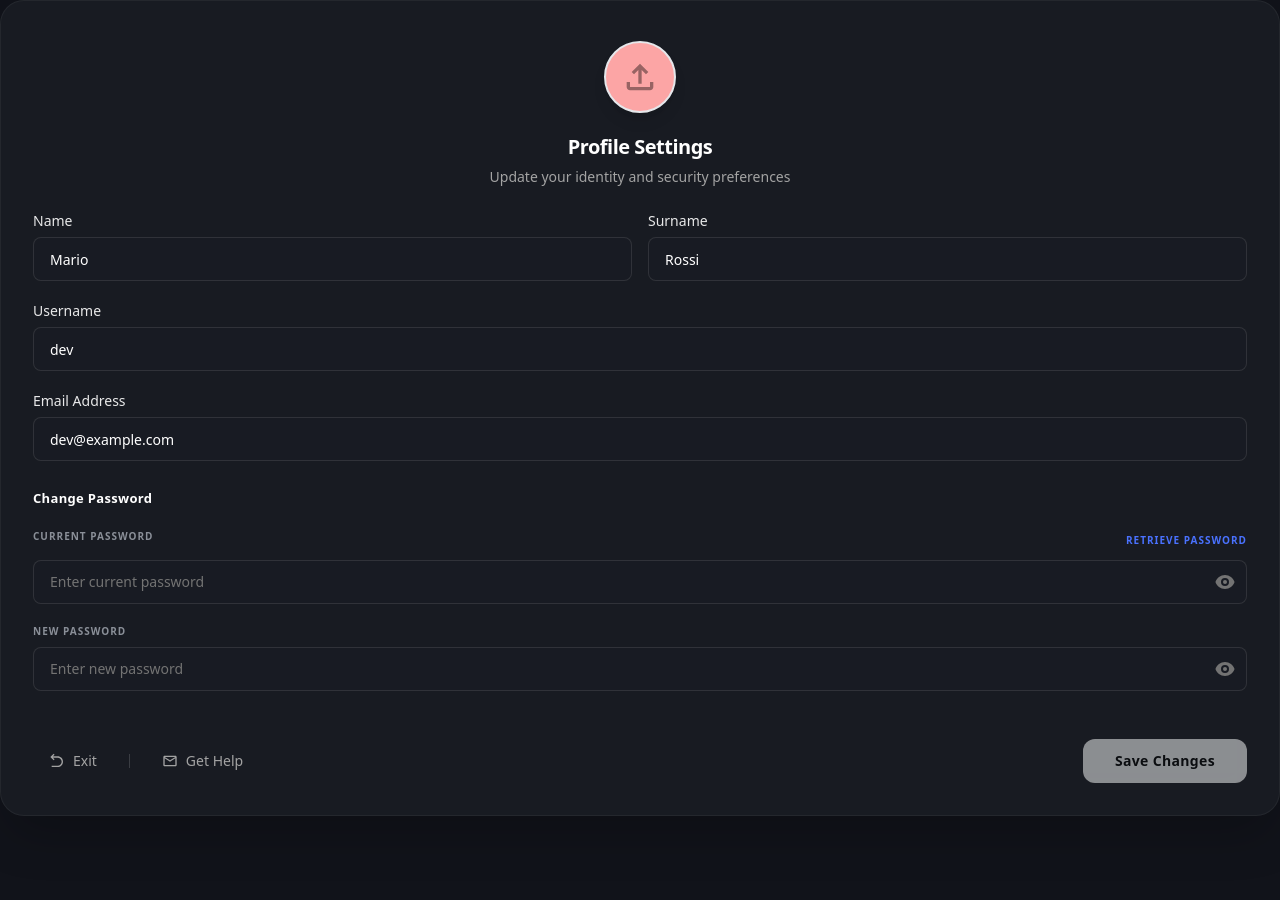
Scenario: ProfileSettingsSection › sends the updated username in profile settings
Replace the text in the field with placeholder "Username" below "Username" with "Dev.Renamed": x=640, y=349 [33,327,1247,371]
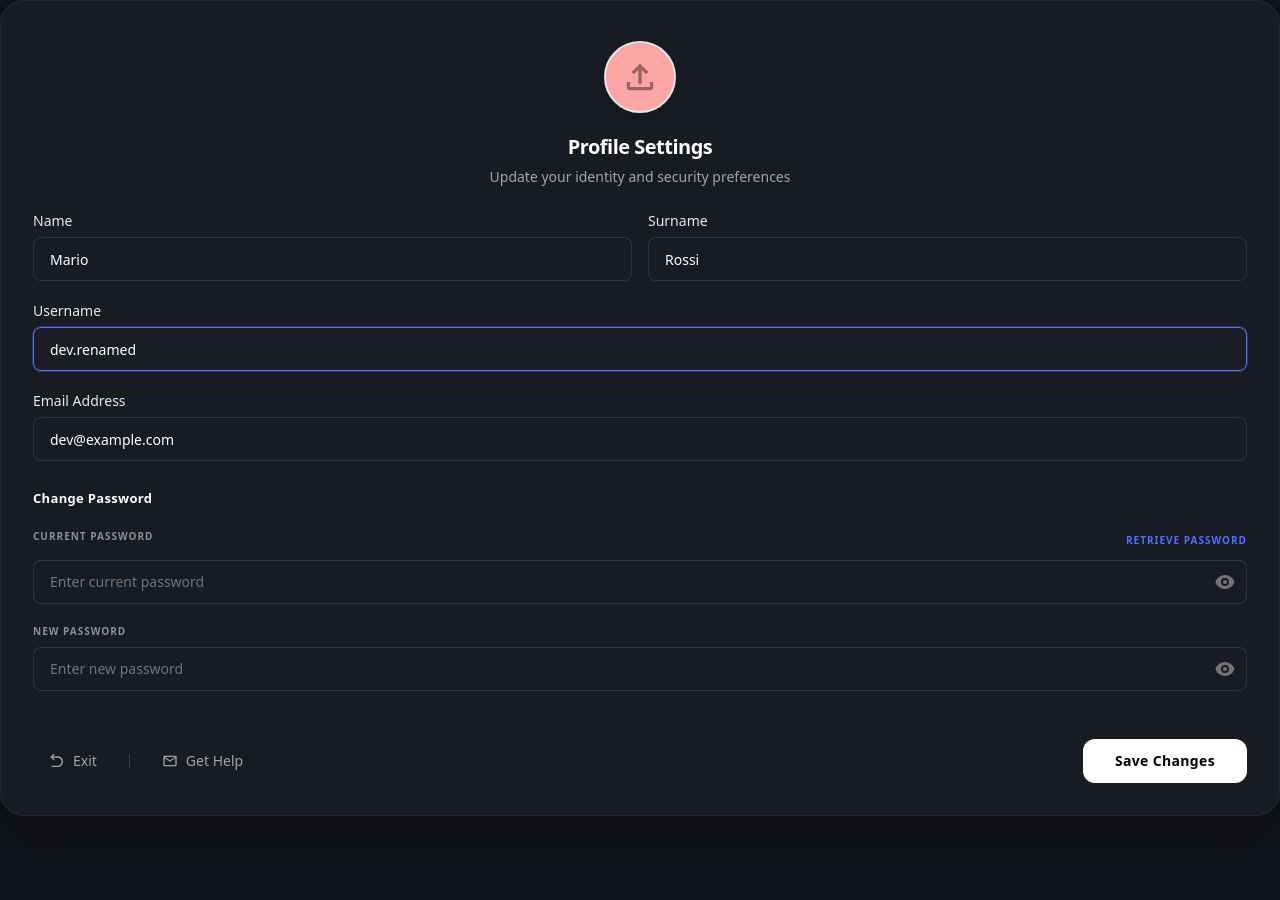
Click the button "Save Changes": x=1165, y=760 [1083,738,1247,782]
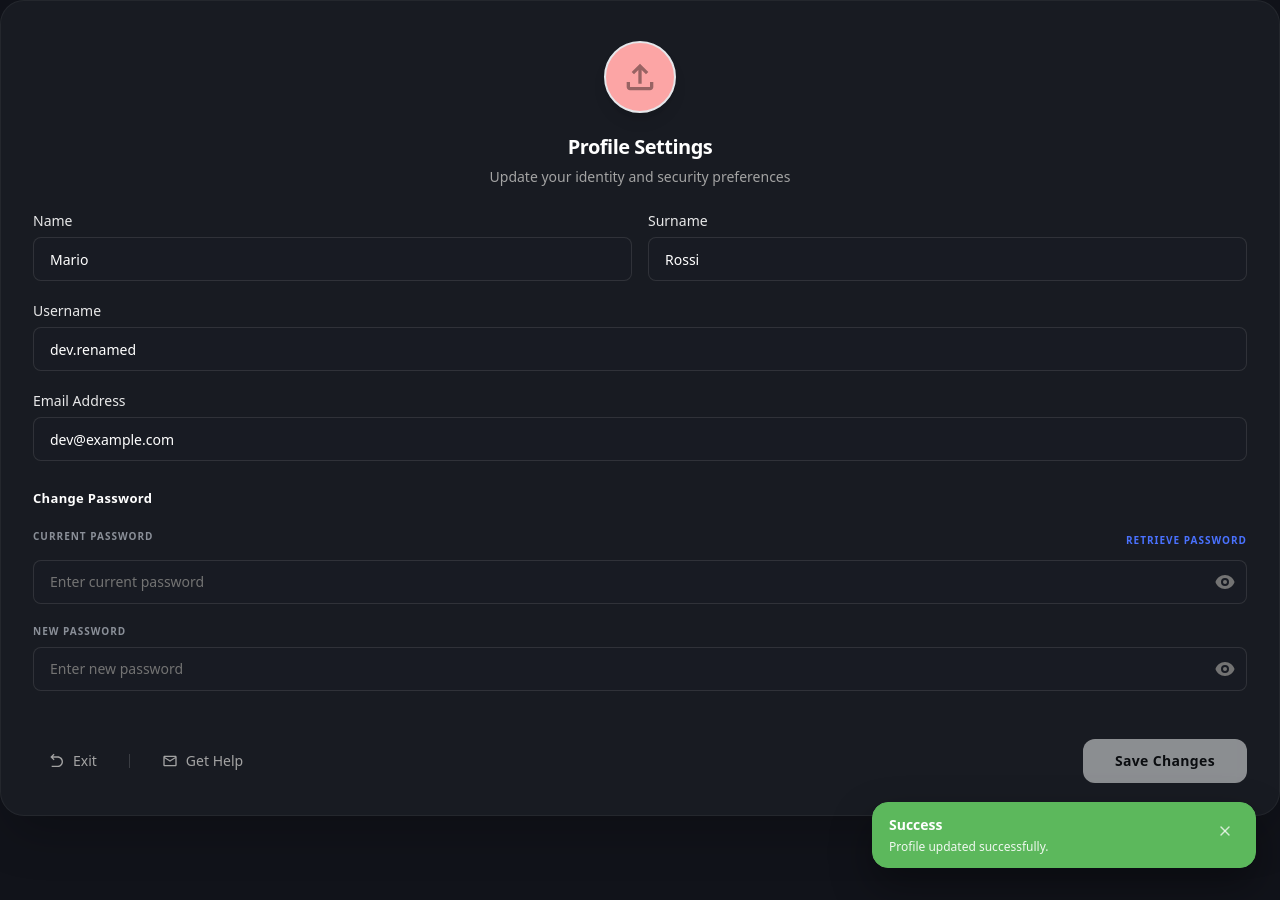
Check: the text "Profile updated successfully." is shown, box [889,838,1048,855]
